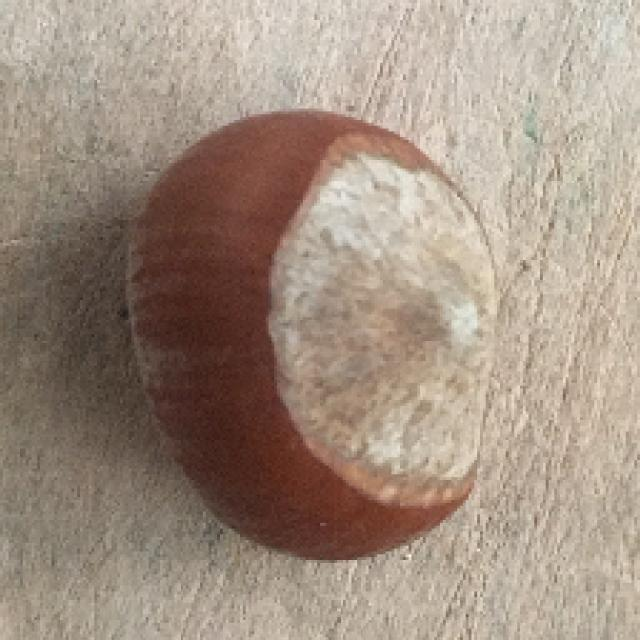qualityHazelnut: (128, 108, 500, 560)
